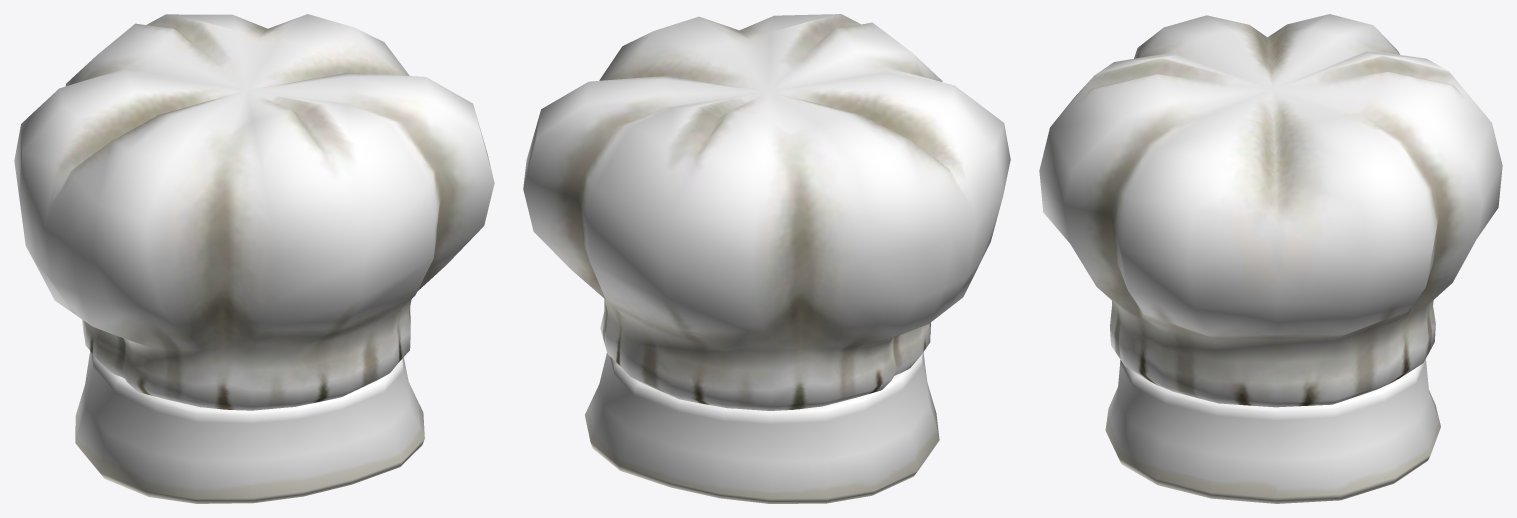
The model's file is chef.glb.
3 views of the same model, side by side, from view 1: azimuth 30°, elevation 25°; view 2: azimuth 150°, elevation 25°; view 3: azimuth 270°, elevation 25° (orthographic).
Parts seen in each view (by area): view 1: group1; view 2: group1; view 3: group1.
Part boxes in pixels (bbox=[...]): group1: bbox=[14, 14, 494, 503]; group1: bbox=[523, 14, 1010, 503]; group1: bbox=[1039, 14, 1502, 503].
Size of the model in its own units: 12.3 by 11 by 12.34.
Materials: 3 (3 with a texture image).
